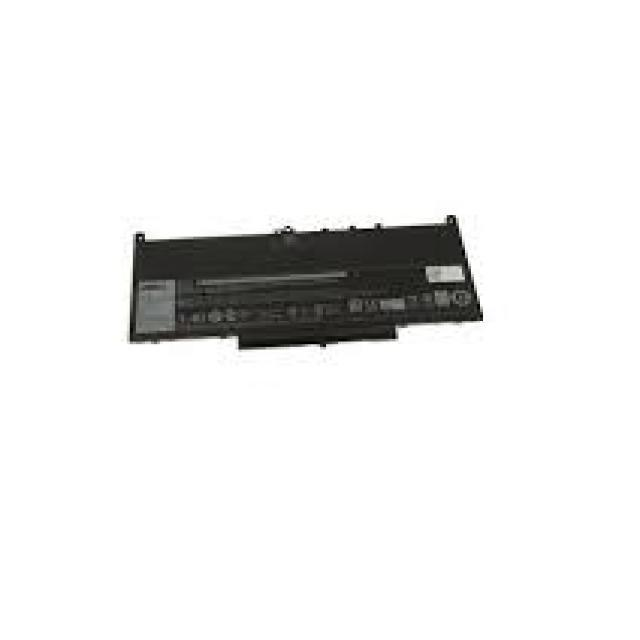battery: (126, 216, 483, 348)
